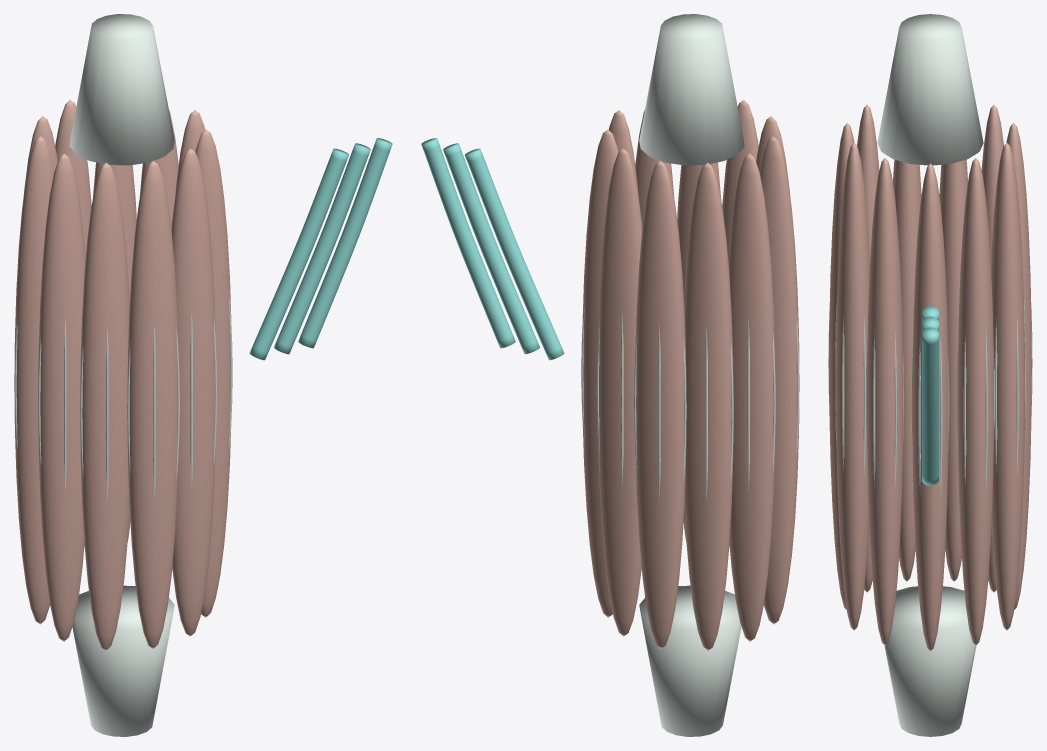
Rendered from muscle-fibers.glb.
The picture shows the model from 3 angles, left to right: view 1: azimuth 30°, elevation 25°; view 2: azimuth 150°, elevation 25°; view 3: azimuth 270°, elevation 25°; orthographic projection.
Parts seen in each view (by area): view 1: static #bb7564, static #c7ddd2, static #49bdb4; view 2: static #bb7564, static #c7ddd2, static #49bdb4; view 3: static #bb7564, static #c7ddd2, static #49bdb4.
Part boxes in pixels (x1,y1,x2,y2): static #bb7564: (14,100,231,650); static #c7ddd2: (14,14,232,736); static #49bdb4: (249,138,392,360); static #bb7564: (582,100,799,650); static #c7ddd2: (581,14,799,736); static #49bdb4: (421,138,564,360); static #bb7564: (829,105,1031,651); static #c7ddd2: (828,14,1032,736); static #49bdb4: (922,306,938,485).
Bounding box in the file's own units: 0.2698 × 0.492 × 0.1306.
